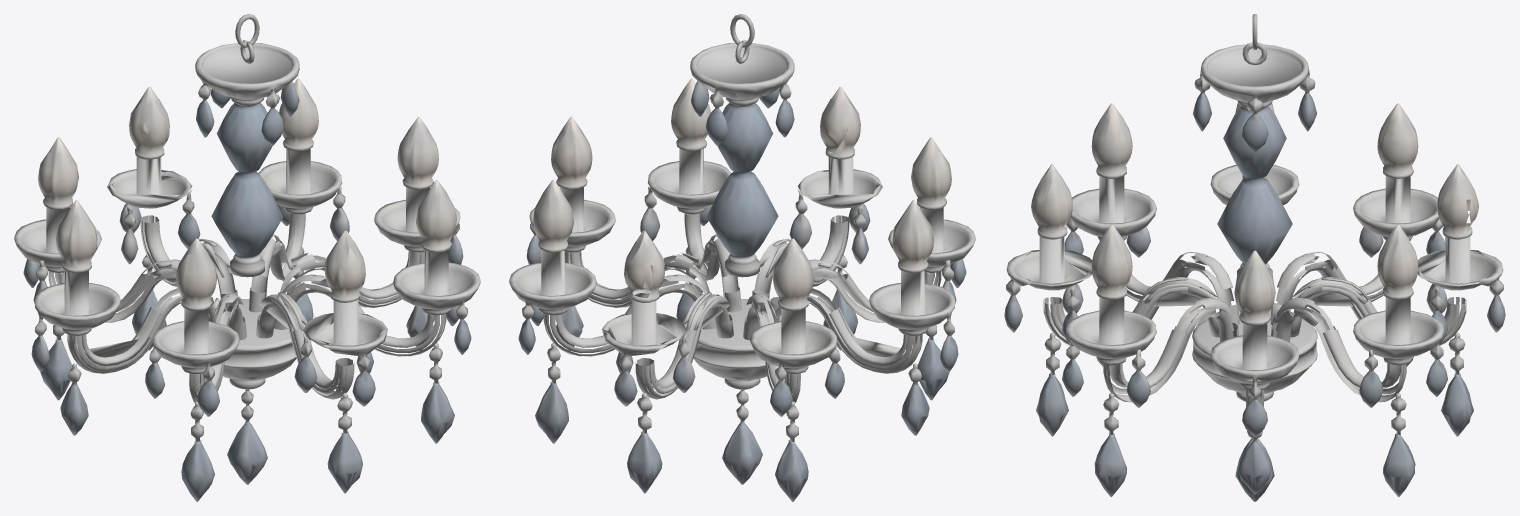
Rendered from Decor__a_crystal_chandelier_6d36fe4e_v1.cluster.glb.
3 views of the same model, side by side, from view 1: azimuth 30°, elevation 25°; view 2: azimuth 150°, elevation 25°; view 3: azimuth 270°, elevation 25° (orthographic). The views are drawn at different scales.
Parts seen in each view (by area): view 1: material; view 2: material; view 3: material.
Boxes of the visible parts, x1,y1,x2,y2 form: material: (14, 14, 480, 501); material: (509, 14, 975, 501); material: (1004, 14, 1505, 501).
Size of the model in its own units: 1.81 by 1.9 by 1.77.
Materials: 1 (1 with a texture image).
